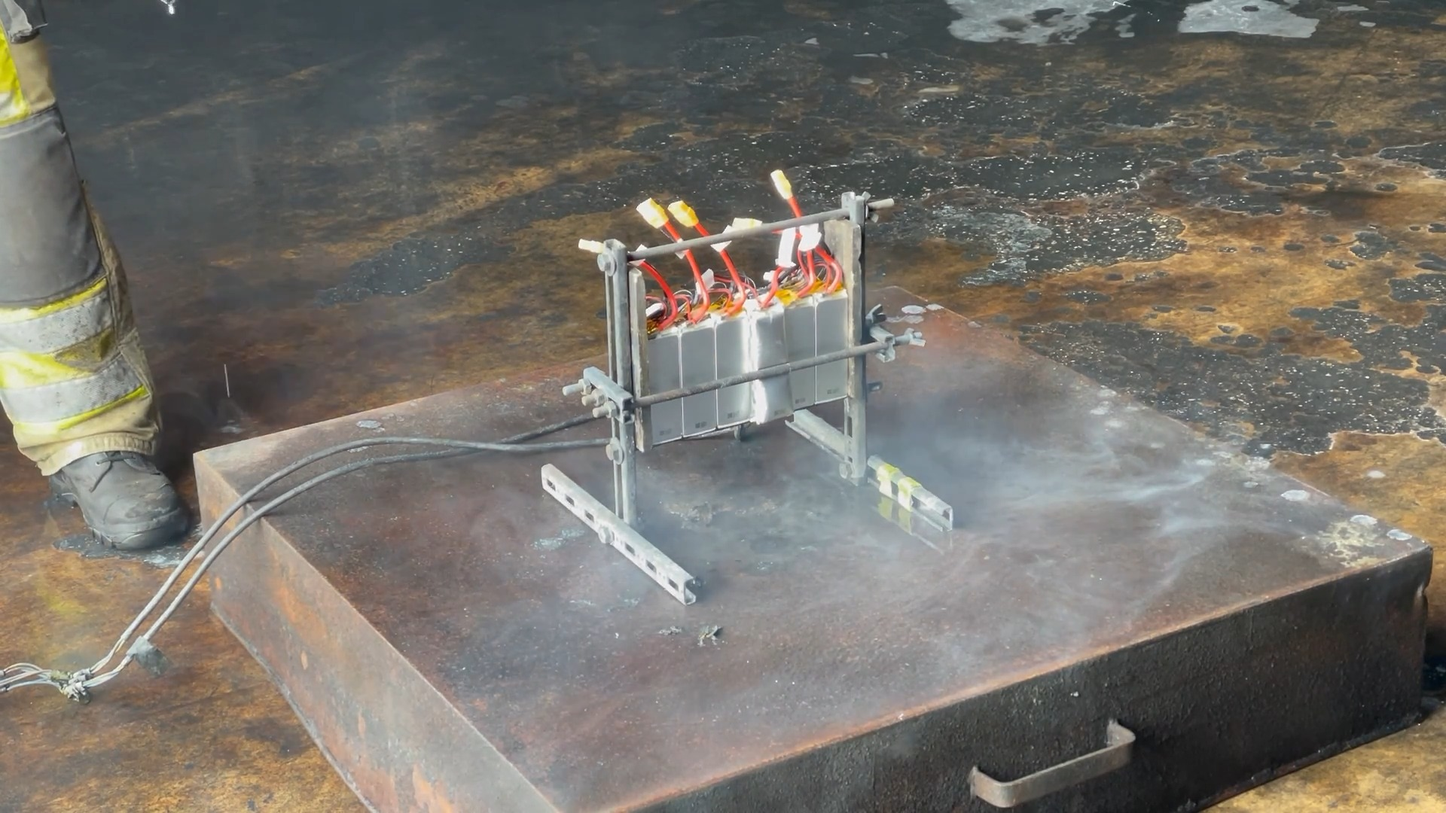smoke: (470, 322, 1267, 753)
